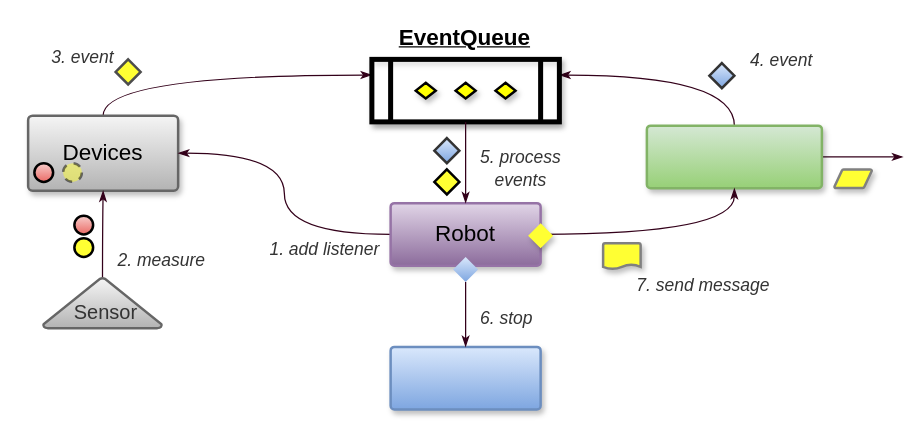
Image size: 924x440. Some labels were removed from this diagram. The shapes that lost their labels are listed below. From the top down, each one's centre as x and y in pixels, then its label:
At pixel 735 158: "Communication".
At pixel 466 379: "Behaviour".
